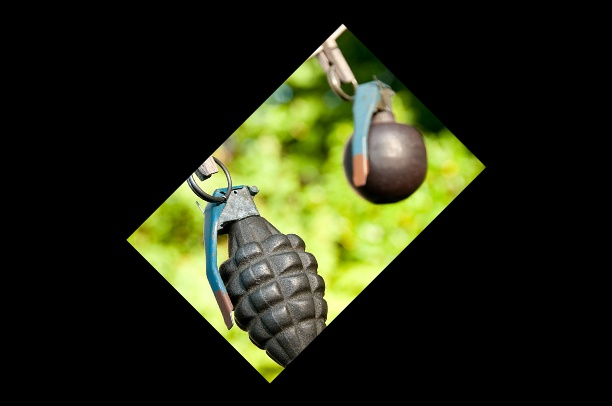e1: (190, 155, 329, 370), (328, 64, 429, 202)
